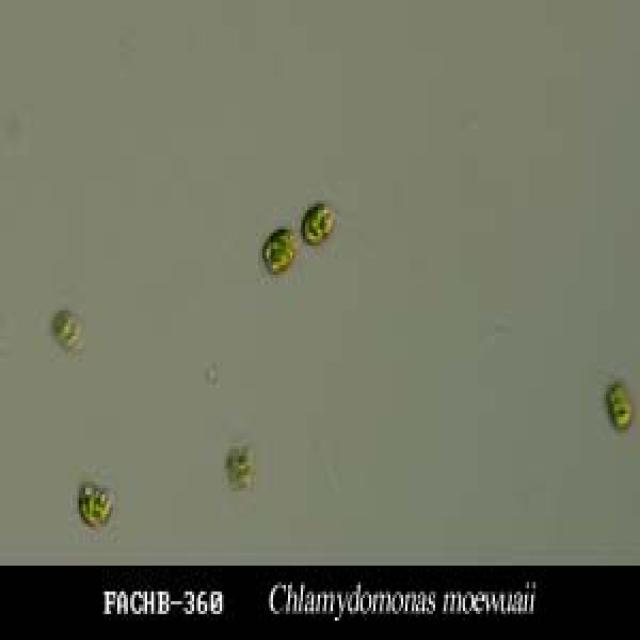Green Algae: (75, 472, 122, 533), (260, 223, 301, 281), (301, 200, 337, 249), (604, 378, 636, 433)
